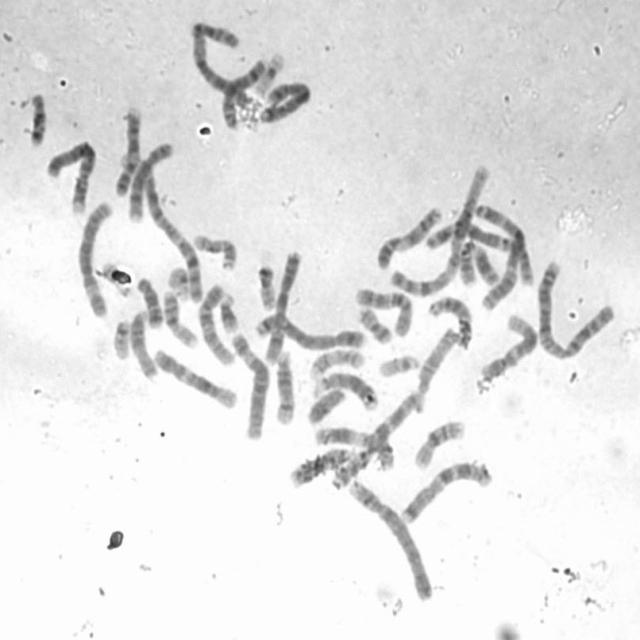A1: (385, 158, 493, 298), (123, 139, 206, 303)
A2: (534, 255, 618, 362), (186, 16, 260, 113)
A3: (420, 216, 535, 288), (472, 199, 527, 313)
B4: (345, 474, 435, 603), (42, 133, 98, 217)
B5: (252, 308, 367, 352), (254, 76, 313, 126)
C10: (195, 278, 238, 367), (352, 281, 416, 338)
C11: (310, 421, 397, 471), (455, 235, 501, 289)
C12: (149, 342, 238, 410), (475, 310, 539, 382)
C6: (74, 195, 118, 320), (226, 327, 272, 442)
C7: (328, 387, 426, 491), (396, 456, 495, 525)
C8: (125, 137, 177, 224), (220, 54, 268, 131)
C9: (372, 202, 445, 271), (110, 100, 144, 197)
D13: (285, 442, 355, 490), (311, 367, 380, 412)
D14: (424, 291, 476, 351), (272, 344, 297, 427)
D15: (411, 322, 462, 398), (126, 304, 160, 382)
E16: (411, 414, 468, 471), (158, 284, 199, 350)
E17: (189, 229, 239, 272), (306, 344, 367, 379)
E18: (133, 271, 166, 330), (25, 87, 49, 147)
F19: (250, 47, 287, 97), (164, 260, 192, 302)
F20: (353, 301, 395, 345), (254, 259, 278, 311)
G21: (98, 256, 132, 297), (215, 288, 241, 334)
G22: (375, 348, 422, 379), (109, 314, 132, 360)
X: (262, 246, 305, 365)
Y: (303, 383, 347, 426)
